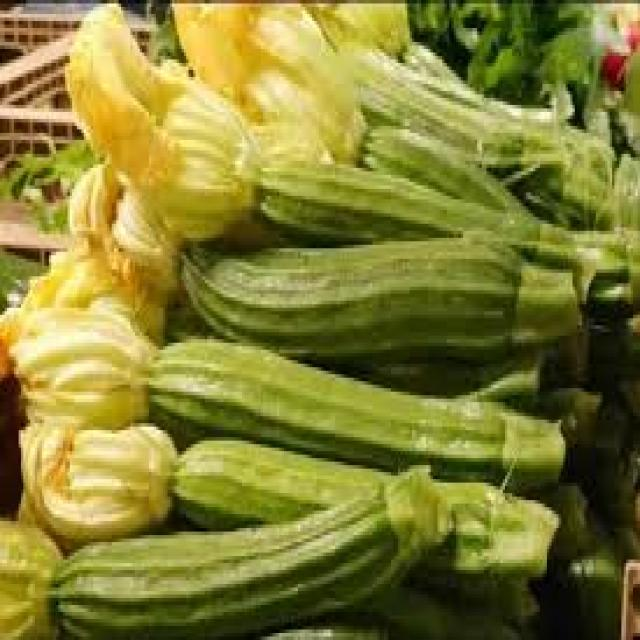Zucchini: (193, 238, 582, 378)
